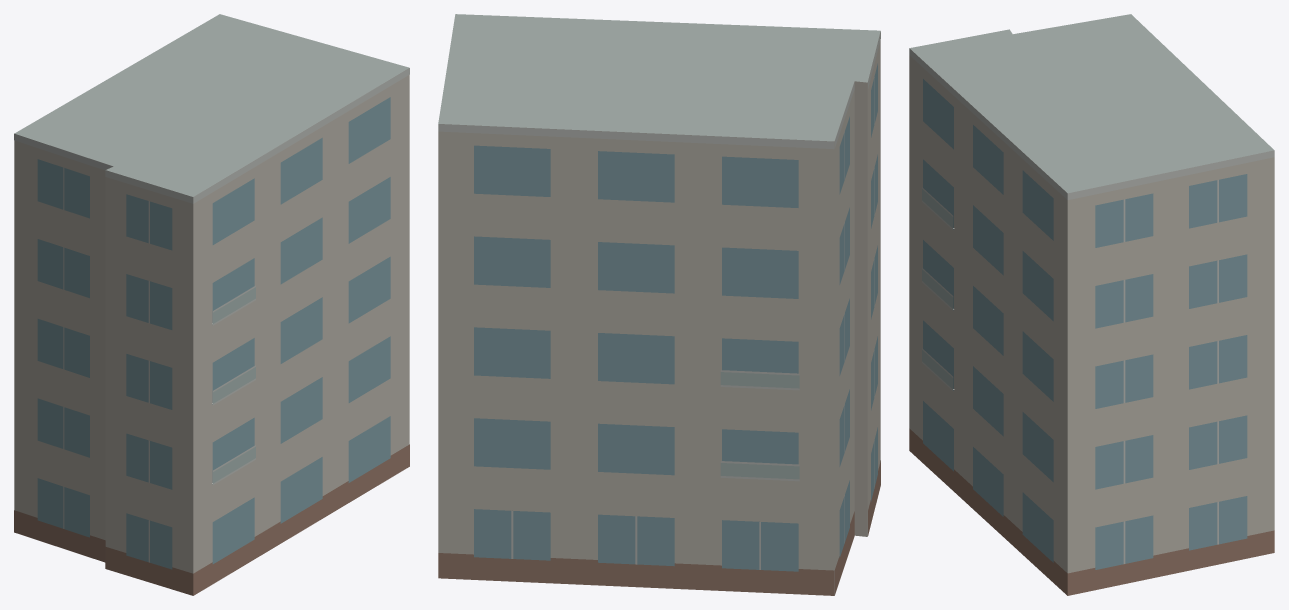
Rendered from survey-upis-32699099.glb.
3 renders of one model, left to right at view 1: azimuth 30°, elevation 25°; view 2: azimuth 150°, elevation 25°; view 3: azimuth 270°, elevation 25°, orthographic. The views are drawn at different scales.
Parts seen in each view (by area): view 1: survey-upis-32699099.tmp; view 2: survey-upis-32699099.tmp; view 3: survey-upis-32699099.tmp.
Boxes of the visible parts, box(x1,y1,x2,y2) form: survey-upis-32699099.tmp: box(14, 14, 409, 595); survey-upis-32699099.tmp: box(438, 14, 880, 595); survey-upis-32699099.tmp: box(909, 14, 1274, 595).
Bounding box in the file's own units: 13.68 × 14.3 × 11.77.
